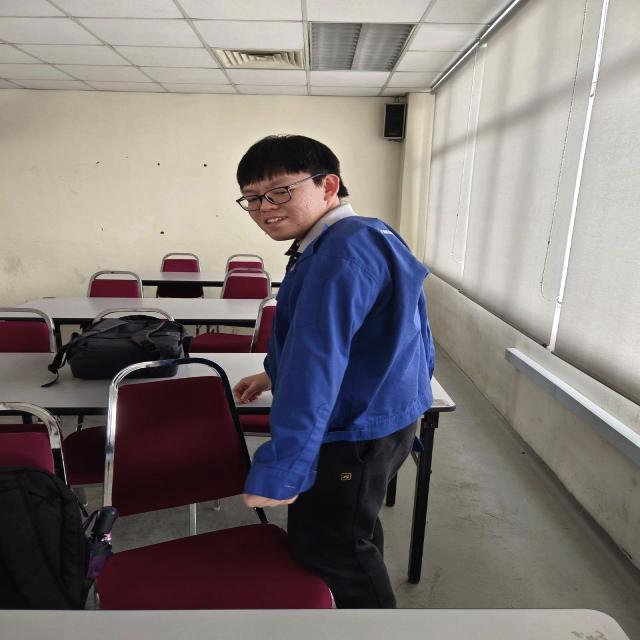person_without_labcoat: (233, 135, 434, 608)
